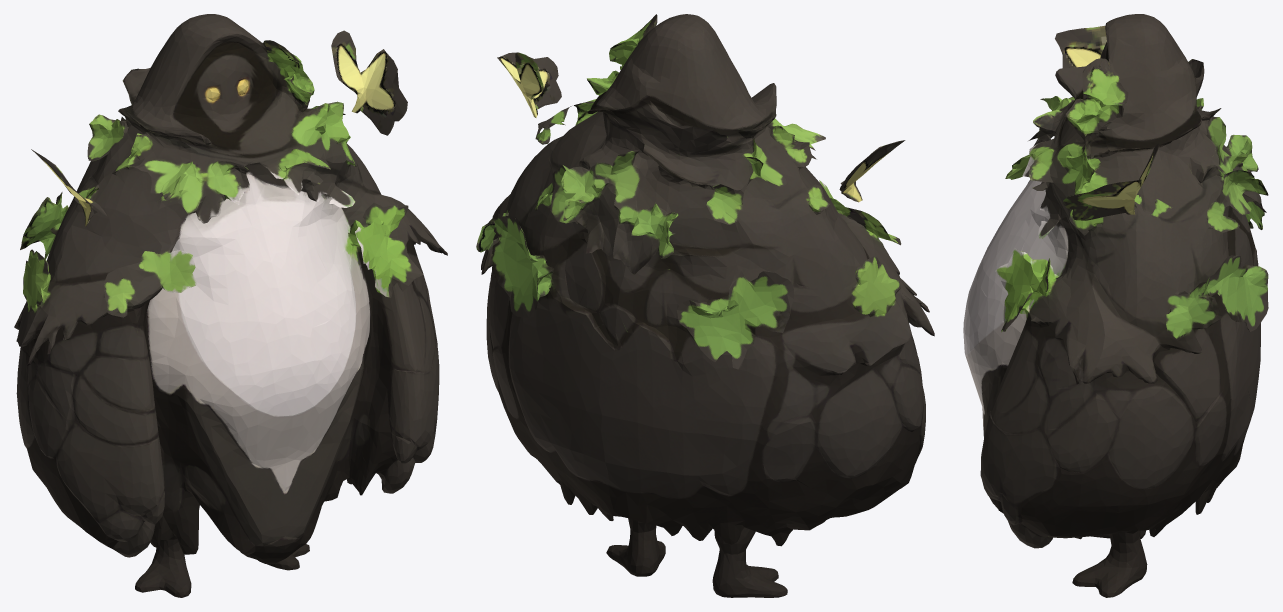
The model's file is earth-guardian.glb.
3 renders of one model, left to right at view 1: azimuth 30°, elevation 25°; view 2: azimuth 150°, elevation 25°; view 3: azimuth 270°, elevation 25°, orthographic. The views are drawn at different scales.
Parts seen in each view (by area): view 1: world; view 2: world; view 3: world.
Boxes of the visible parts, x1,y1,x2,y2 form: world: (14,14,447,597); world: (476,14,934,597); world: (963,14,1268,597).
Bounding box in the file's own units: 0.8142 × 1 × 0.5138.
1 material, 1 textured.
